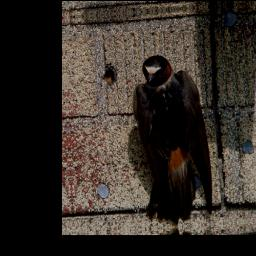Swallow: (131, 51, 216, 228)
